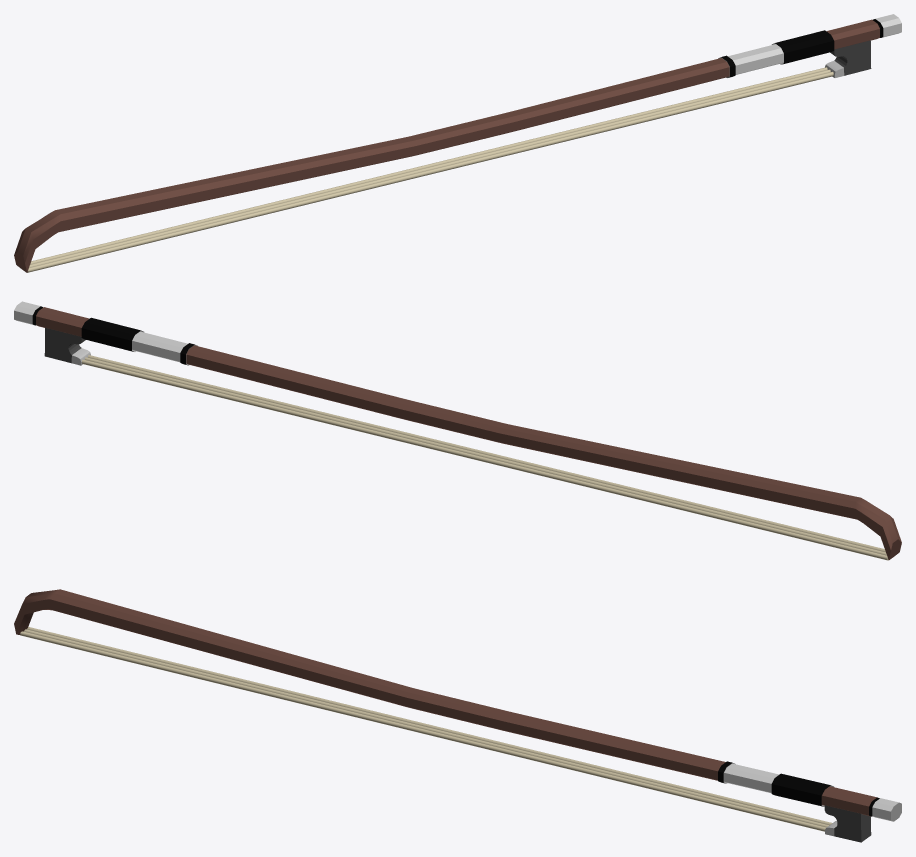
The model's file is violin bow.fbx.
3 renders of one model, top to bottom at view 1: azimuth 30°, elevation 25°; view 2: azimuth 150°, elevation 25°; view 3: azimuth 330°, elevation 25°, orthographic.
Visible parts, largest first — view 1: pCube4; view 2: pCube4; view 3: pCube4.
Boxes of the visible parts, x1,y1,x2,y2 form: pCube4: (14, 14, 901, 272); pCube4: (14, 301, 901, 560); pCube4: (14, 589, 901, 842).
Bounding box in the file's own units: 2409 × 134 × 58.81.
